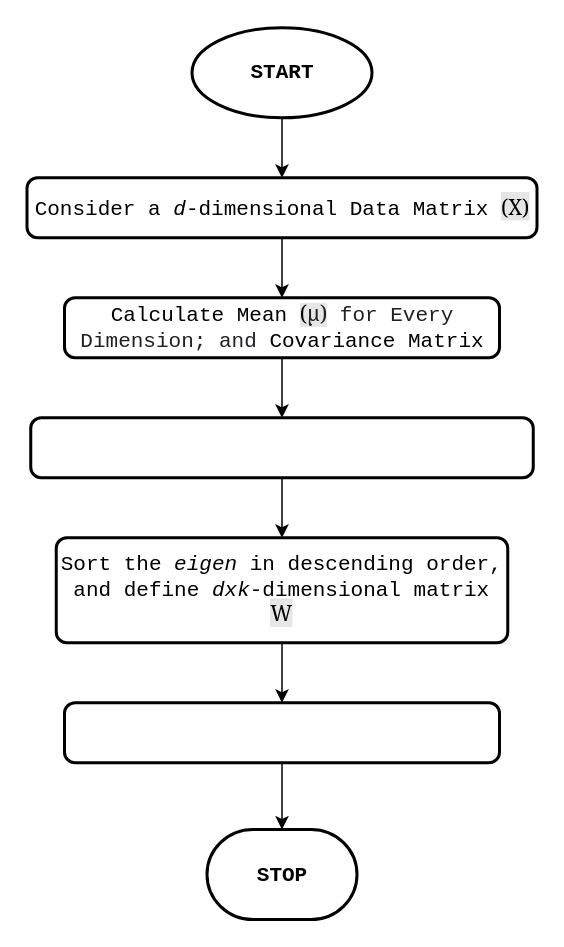
This 564x947 diagram has some shape labels left out. The shapes that lost their labels are listed below. From the top down, each one's centre as x and y in pixels, then its label:
At pixel 281 447: "Calculate eigenvalues and eigenvectors".
At pixel 281 732: "Compute X.W which gives the Principal Components".
